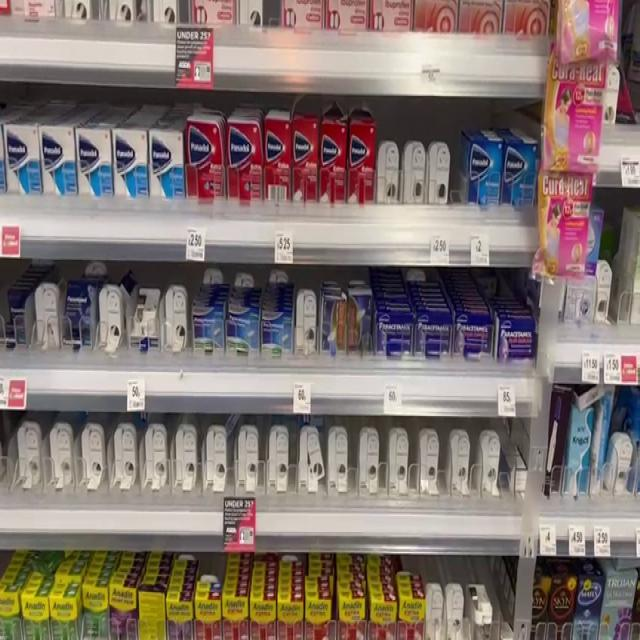Other: (550, 44, 602, 177), (537, 171, 593, 282), (185, 116, 228, 208), (227, 109, 267, 206), (108, 121, 152, 208), (68, 122, 117, 200), (35, 118, 81, 199), (144, 123, 191, 200), (0, 123, 46, 201), (289, 112, 322, 214), (503, 136, 541, 214), (467, 137, 504, 217), (346, 102, 375, 203), (263, 109, 292, 209), (318, 112, 348, 206), (547, 567, 581, 640), (64, 266, 94, 346), (606, 568, 639, 640), (568, 391, 589, 501), (132, 582, 171, 640), (346, 281, 374, 361), (317, 291, 352, 353), (45, 582, 80, 640), (577, 570, 605, 640), (18, 586, 53, 640), (161, 591, 199, 640), (303, 582, 334, 640), (337, 584, 369, 640), (373, 315, 418, 354), (399, 584, 430, 640), (415, 314, 454, 357), (498, 323, 535, 368), (81, 583, 109, 640), (108, 583, 136, 640), (194, 591, 226, 640), (369, 586, 398, 640), (223, 312, 262, 352), (247, 593, 279, 640), (221, 589, 250, 640), (458, 317, 494, 358), (277, 588, 303, 640), (192, 314, 227, 349), (261, 317, 293, 350)
